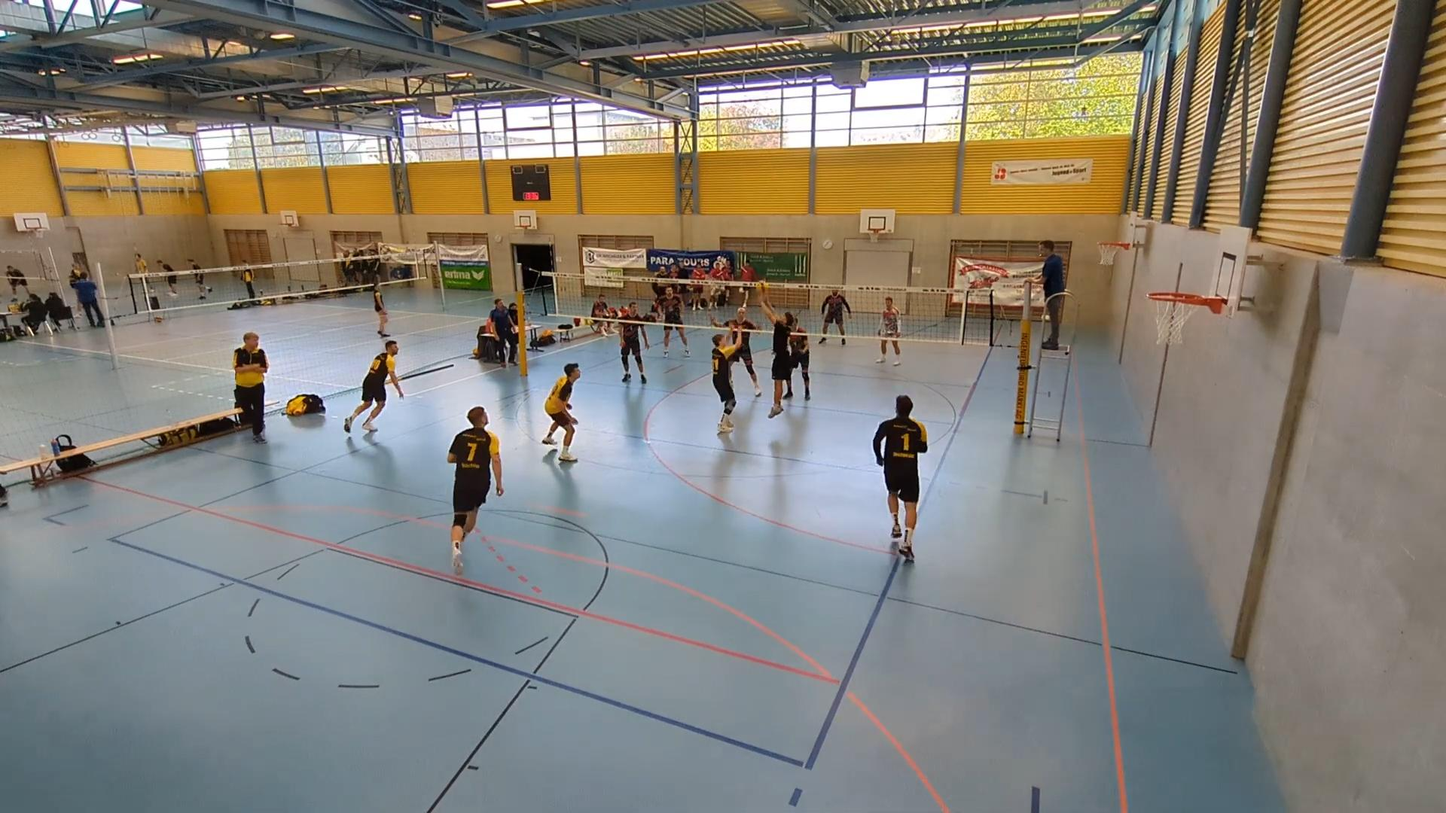alzata: (756, 294, 797, 421), (711, 330, 750, 449)
